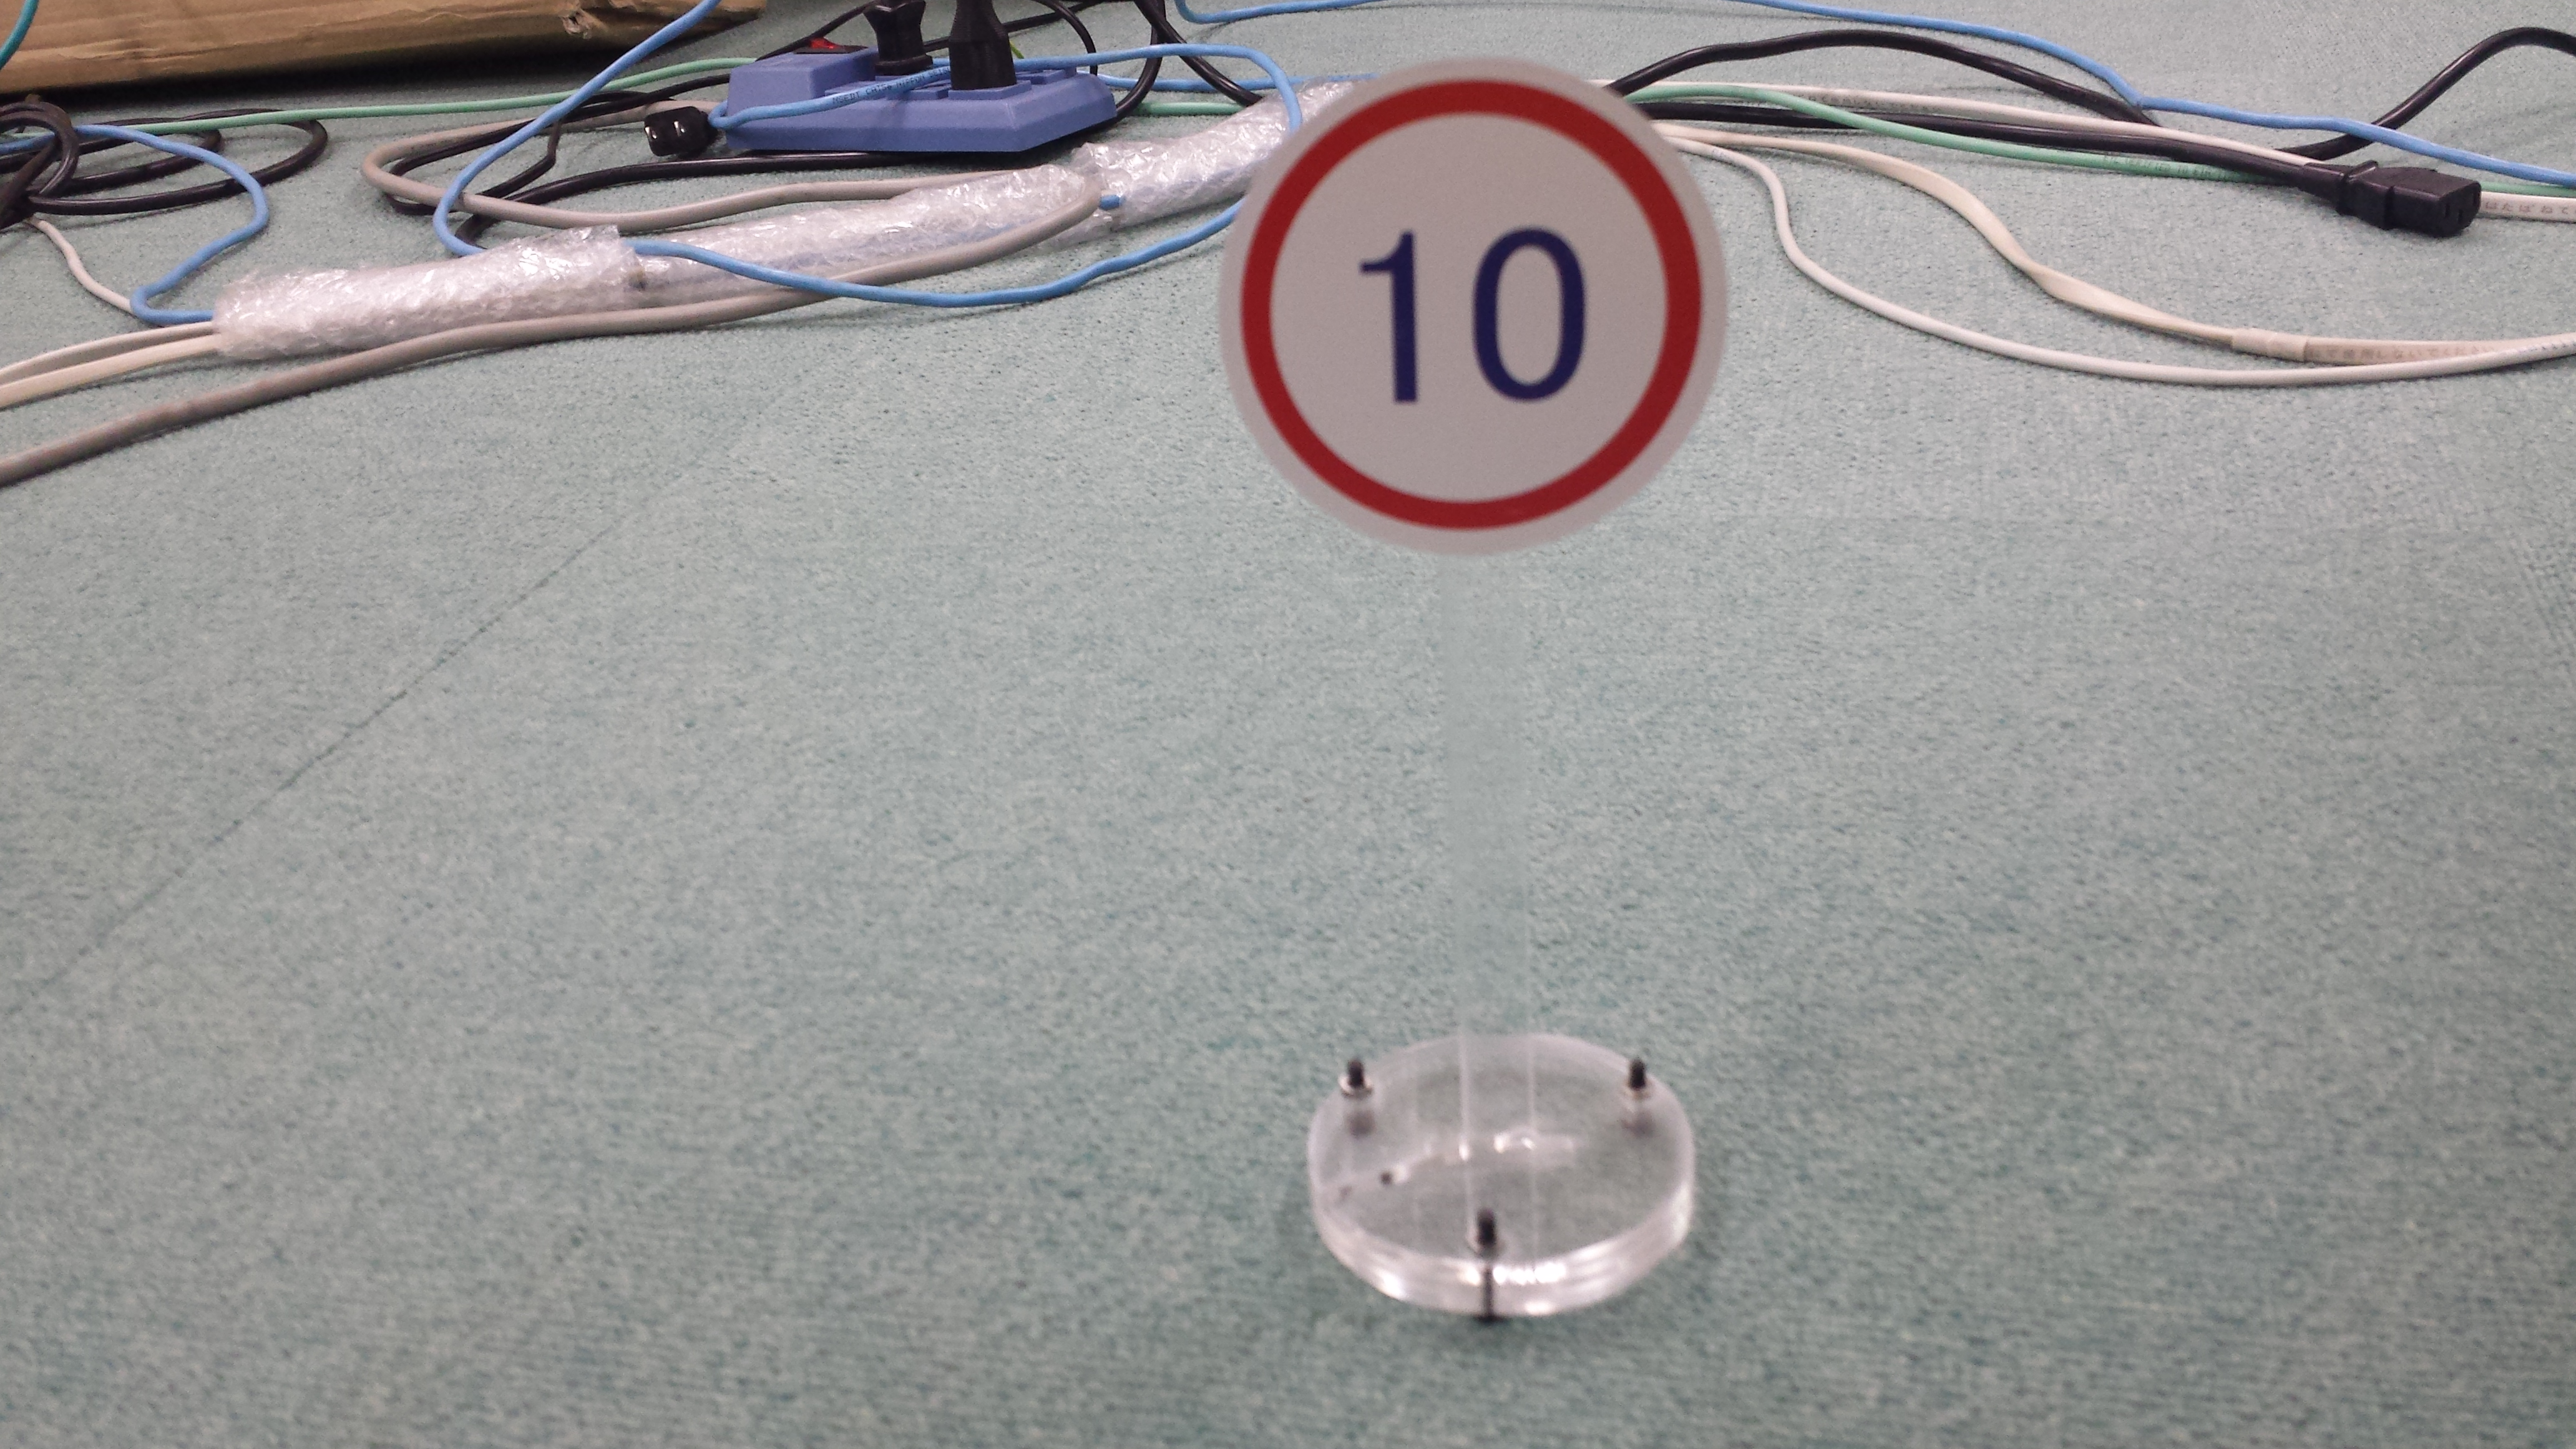speed_10: (1223, 53, 1730, 548)
